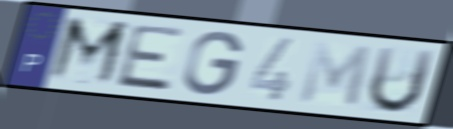4: (247, 35, 296, 104)
E: (113, 22, 190, 94)
G: (181, 29, 247, 97)
M: (44, 14, 134, 90), (295, 39, 375, 112)
U: (365, 44, 438, 116)
